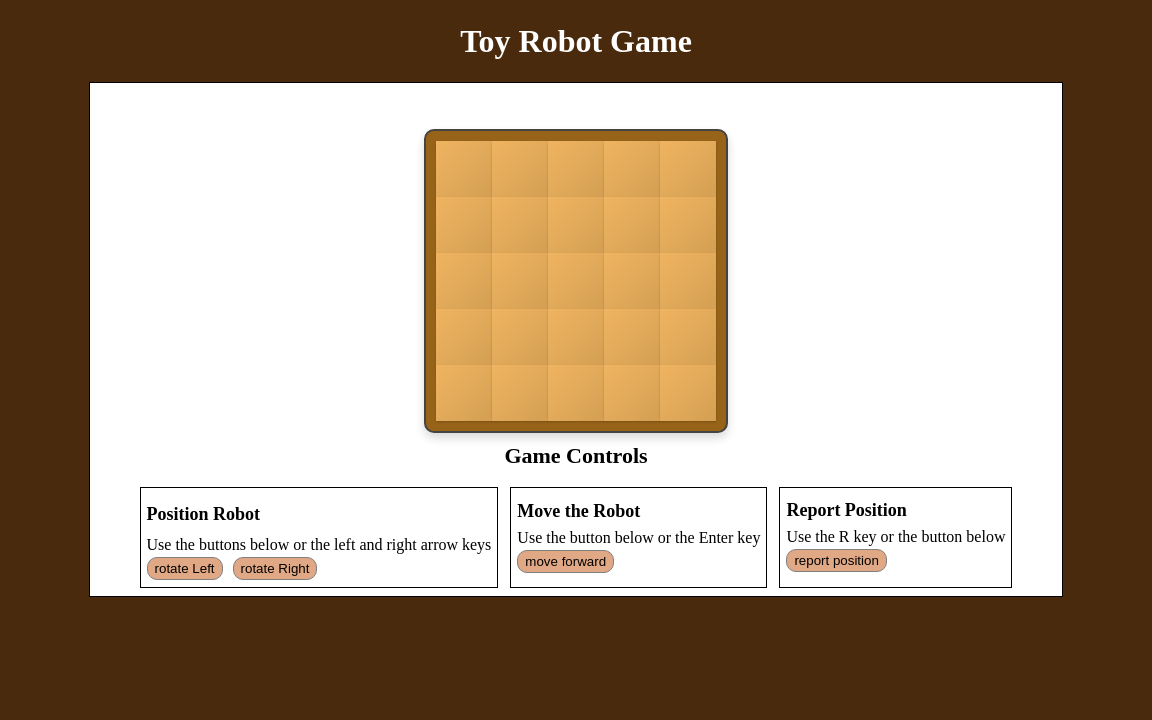
Scenario: rotates robot when pressing left and right arrow keys
The image size is (1152, 720).
Click the element with test id "4-0" at point(464, 393), box [436,365,492,421]
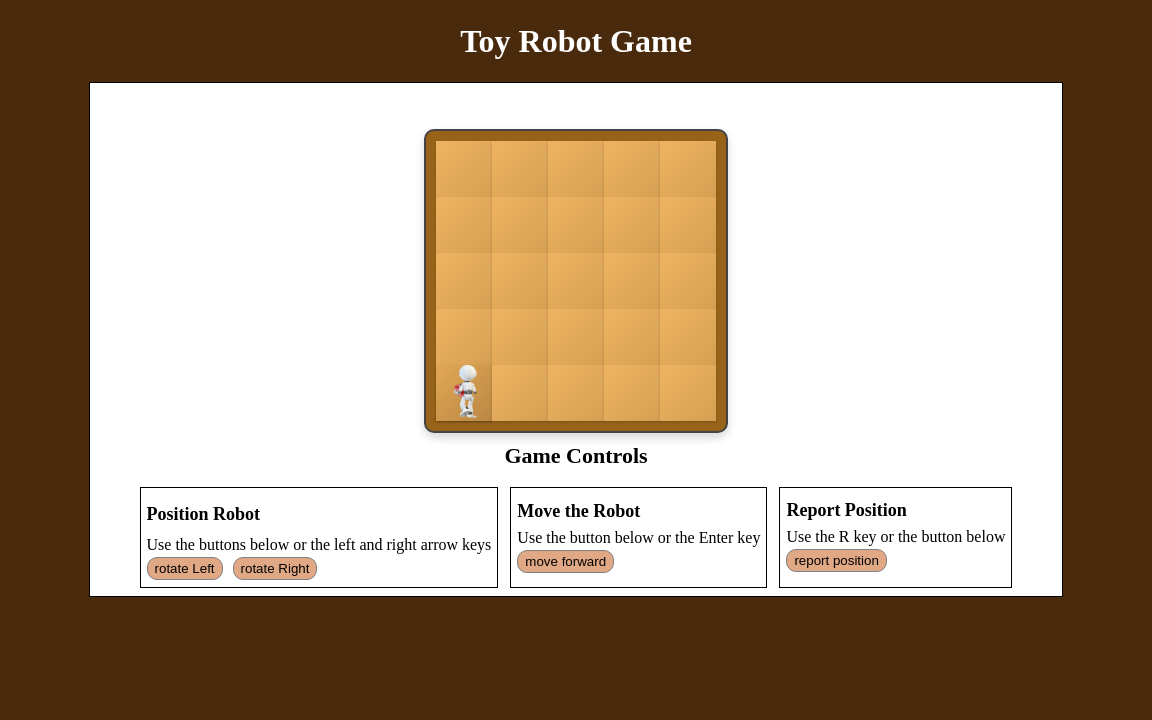
Press ArrowLeft
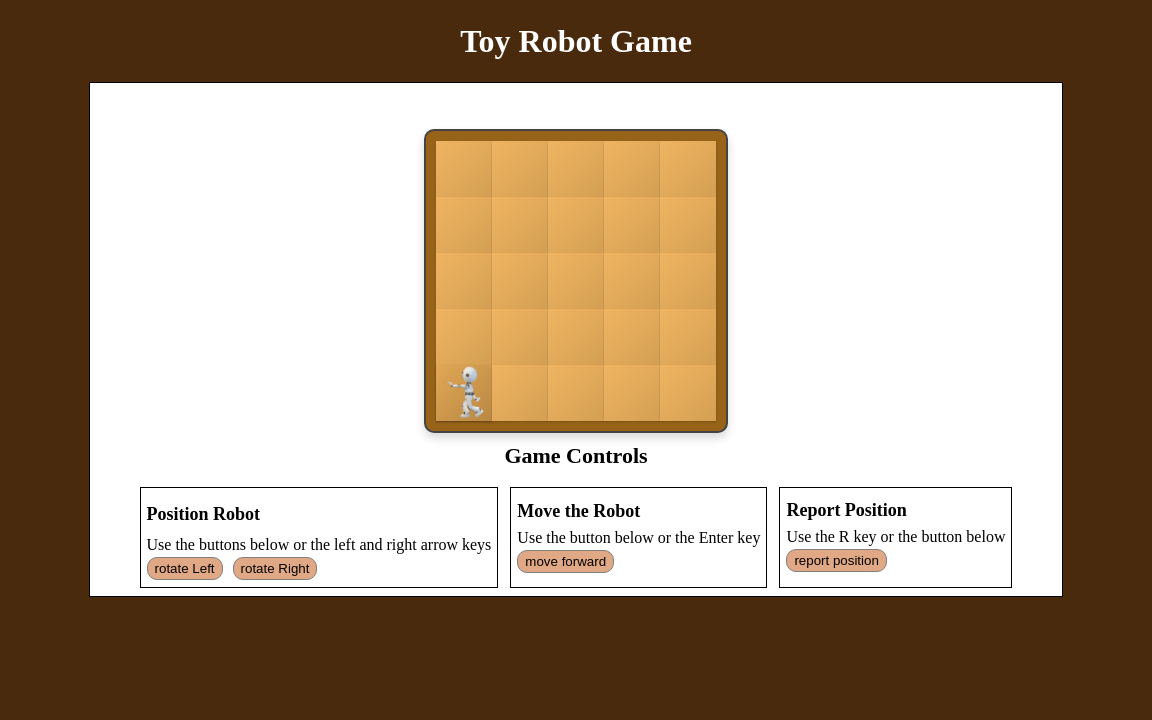
Press r
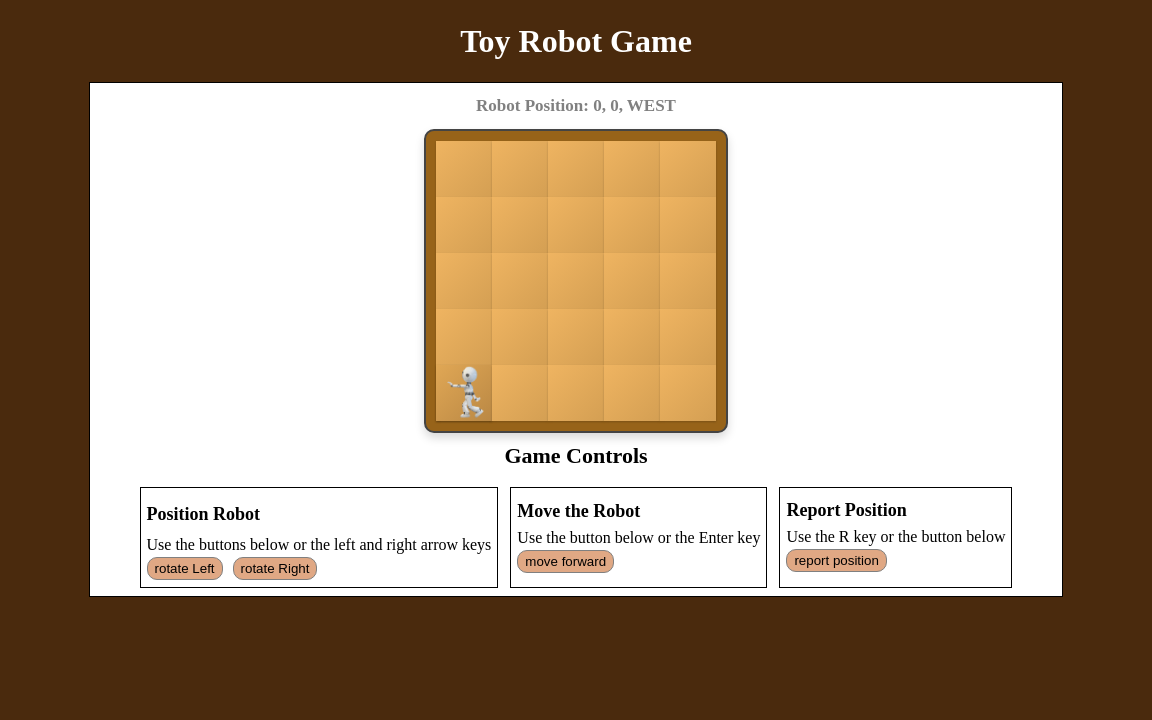
Expected: the text "Robot Position: 0, 0, WEST" is shown, [99,91,1053,121]
Press ArrowRight
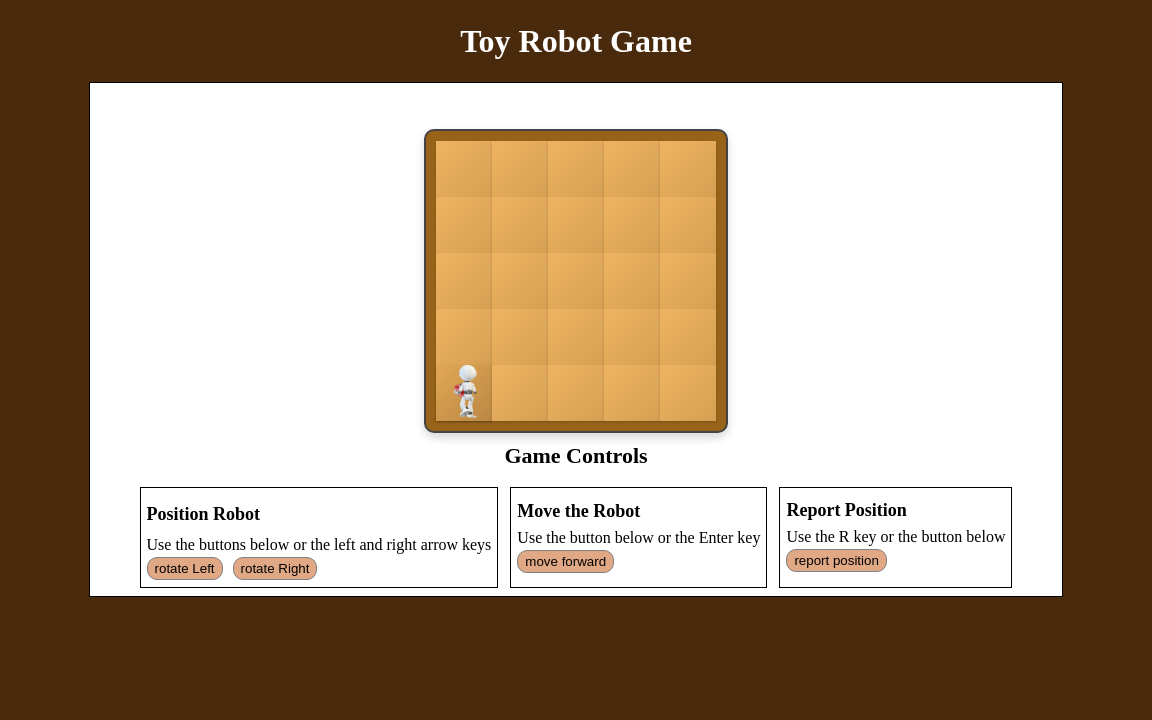
Press r
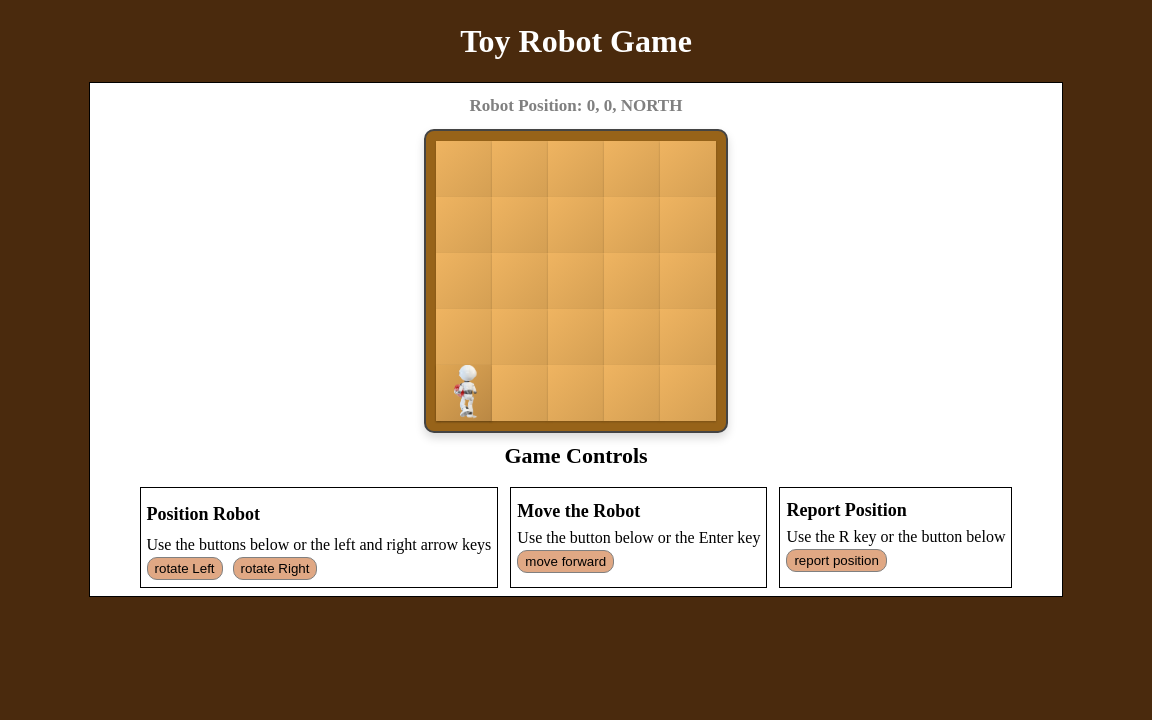
Expected: the text "Robot Position: 0, 0, NORTH" is shown, [99,91,1053,121]
